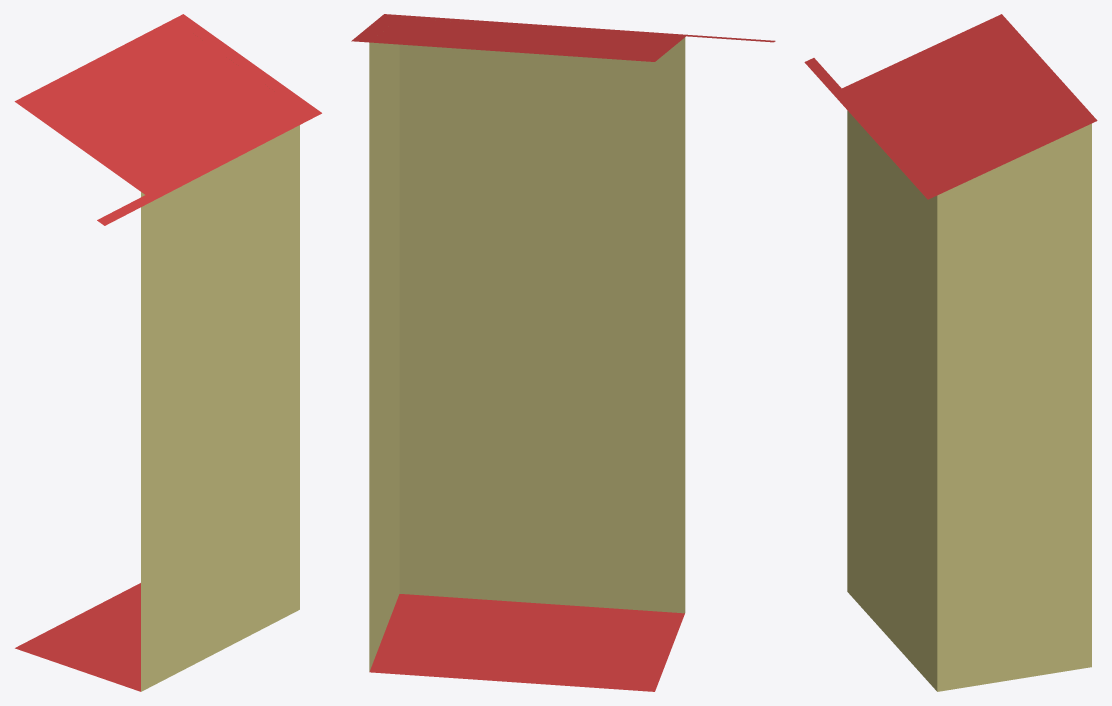
3 renders of one model, left to right at view 1: azimuth 30°, elevation 25°; view 2: azimuth 150°, elevation 25°; view 3: azimuth 270°, elevation 25°, orthographic. The views are drawn at different scales.
Size of the model in its own units: 5.06 by 4.51 by 9.37.
